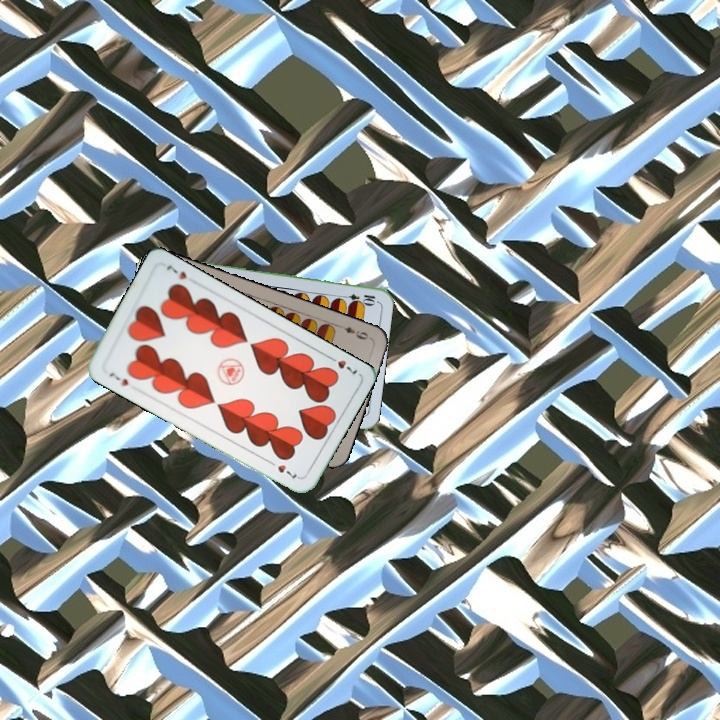E10: (337, 290, 378, 306)
E9: (335, 321, 374, 342)
H7: (323, 352, 360, 377), (105, 368, 131, 389)
